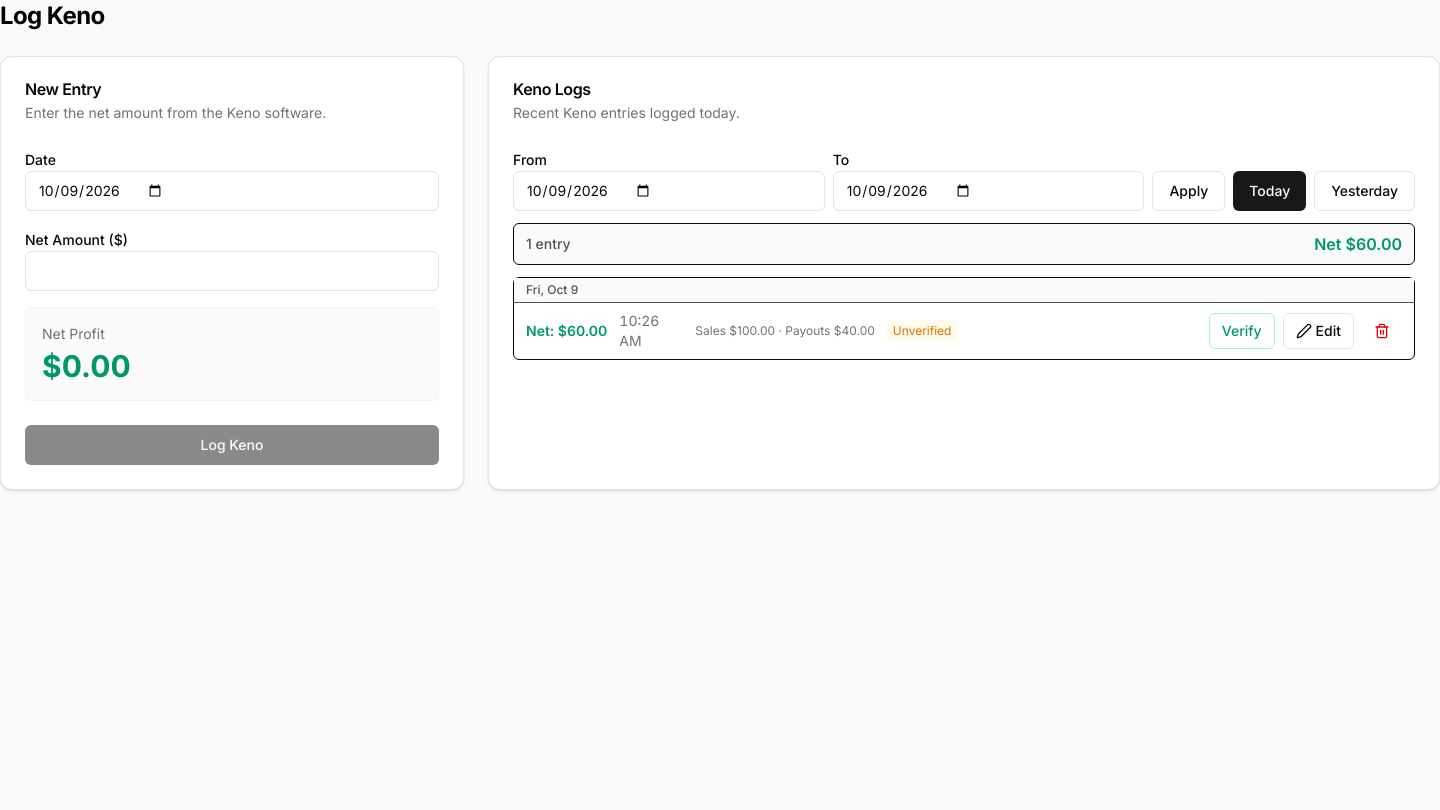
Keno › deletes a keno log via DELETE after a reason is provided
Check: the text "Net: $60.00" is shown, box 526,321 -> 607,341
Click the button named "Delete keno log": [1382, 331] box 1362,313 -> 1402,349
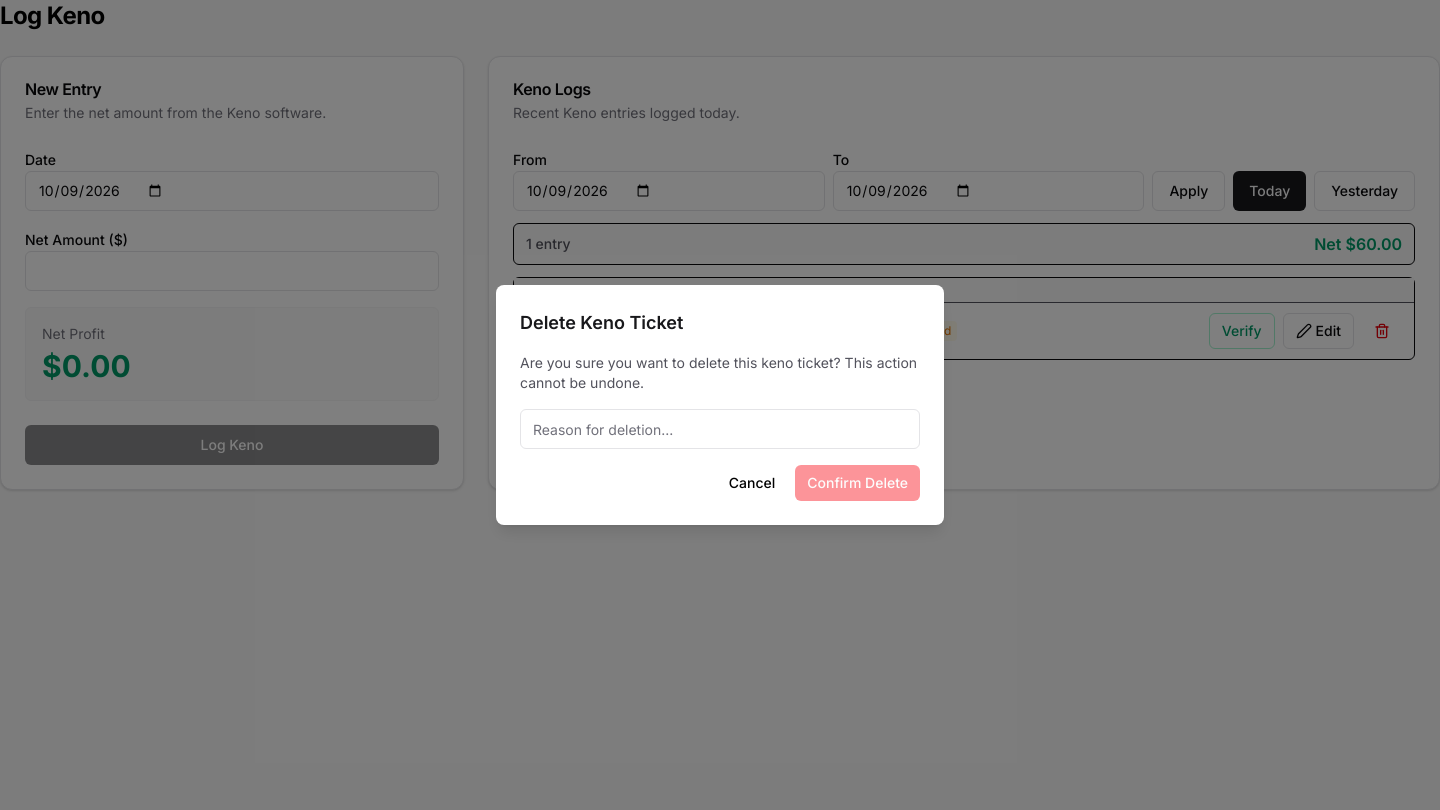
In the field with placeholder "Reason for deletion...": [720, 429] box 520,409 -> 920,449, type "Wrong entry"
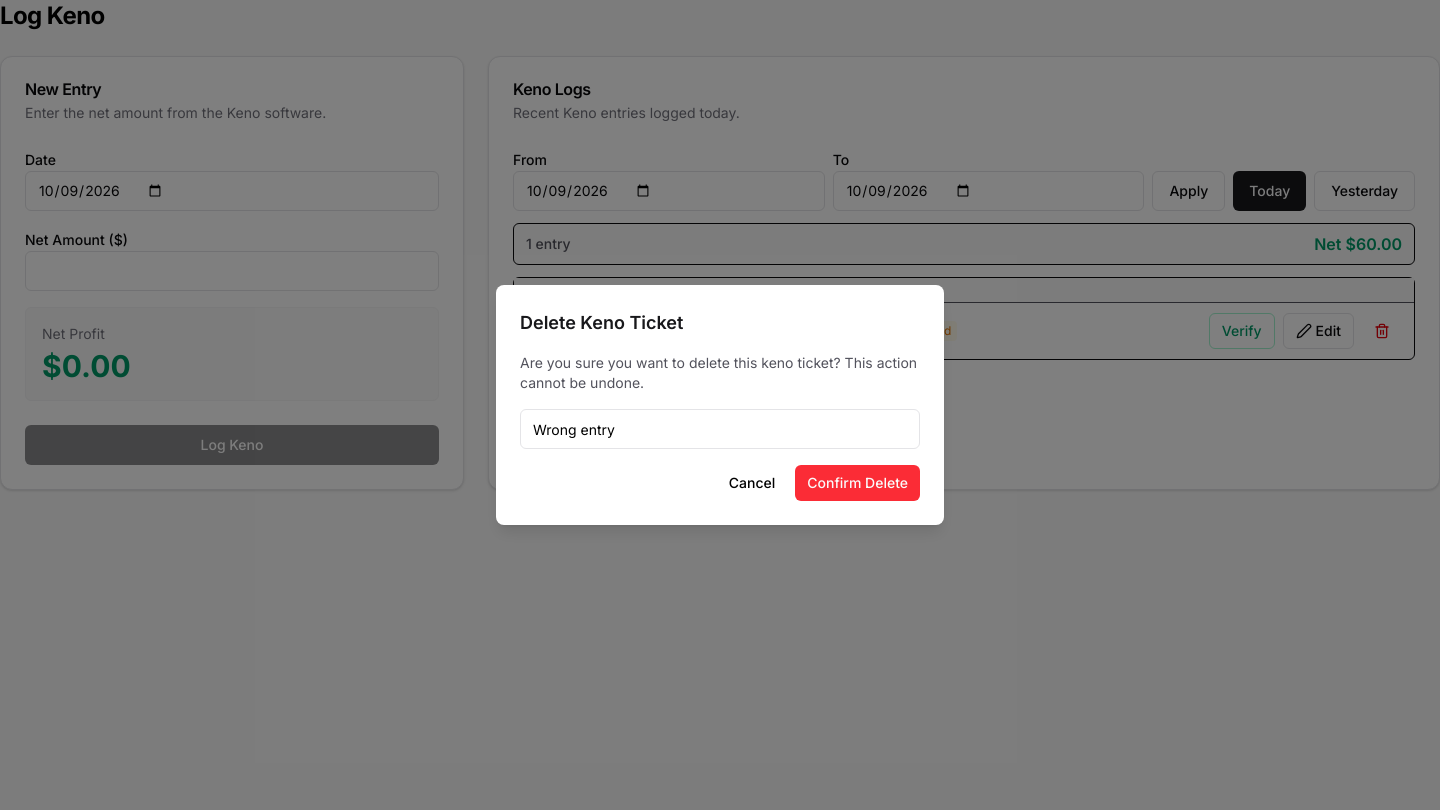
Click the button "Confirm Delete": [858, 483] box 795,465 -> 920,501
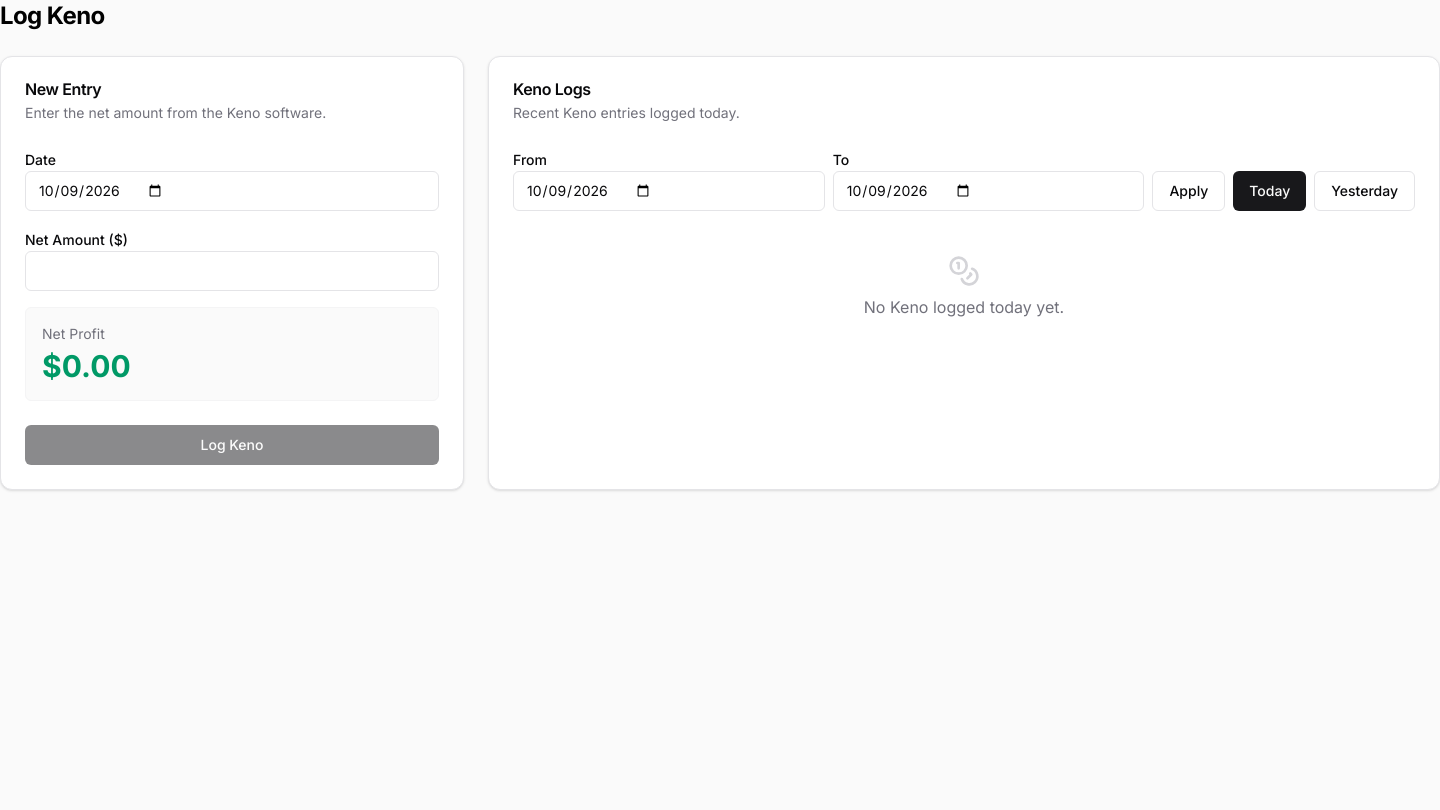
Check: the text "Net: $60.00" is gone
